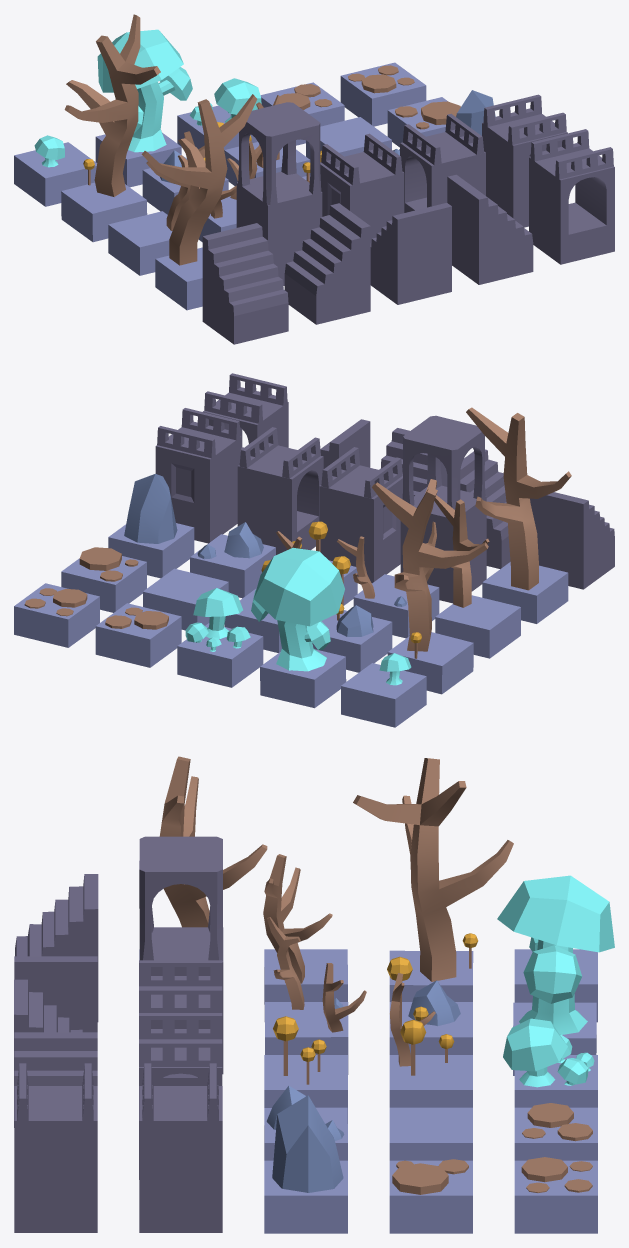
File: tileset.fbx
3 renders of one model, top to bottom at view 1: azimuth 30°, elevation 25°; view 2: azimuth 150°, elevation 25°; view 3: azimuth 270°, elevation 25°, orthographic. The views are drawn at different scales.
Visible parts, largest first — view 1: b_corner, b_arch_x, treeLarge2, b_stairs_ypos, treeLarge, b_stairs_xpos, b_stairs_yneg, b_stairs_xneg, b_path_x, mushroomLarge, b_path_y, b_arch_y (+11 smaller); view 2: mushroomLarge, treeLarge, b_path_x, treeLarge2, b_corner, b_arch_y, b_path_y, b_stairs_ypos, mushrooms, treeMedium, rockLarge, mushroomSingle (+13 smaller); view 3: b_arch_x, b_path_x, treeLarge2, mushroomLarge, rockLarge, b_corner, mushrooms, path2, path1, treeSmallWFlowers, treesSmall, treeMedium (+13 smaller).
Part boxes in pixels (x1,y1,x2,y2): b_corner: [236, 102, 322, 285]; b_arch_x: [529, 129, 614, 264]; treeLarge2: [61, 14, 160, 242]; b_stairs_ypos: [202, 223, 288, 344]; treeLarge: [141, 94, 257, 310]; b_stairs_xpos: [284, 203, 370, 324]; b_stairs_yneg: [370, 203, 451, 304]; b_stairs_xneg: [447, 174, 533, 284]; b_path_x: [482, 94, 567, 227]; mushroomLarge: [95, 29, 192, 187]; b_path_y: [320, 133, 404, 243]; b_arch_y: [400, 113, 485, 212]; mushroomLarge: [251, 547, 346, 708]; treeLarge: [466, 407, 571, 623]; b_path_x: [155, 408, 241, 543]; treeLarge2: [372, 479, 488, 694]; b_corner: [400, 415, 486, 603]; b_arch_y: [237, 427, 323, 554]; b_path_y: [319, 447, 402, 583]; b_stairs_ypos: [530, 492, 614, 589]; mushrooms: [177, 588, 263, 687]; treeMedium: [434, 495, 520, 658]; rockLarge: [108, 474, 194, 578]; mushroomSingle: [341, 653, 426, 727]; b_arch_x: [14, 1063, 97, 1232]; b_path_x: [139, 1063, 222, 1232]; treeLarge2: [353, 758, 513, 1001]; mushroomLarge: [497, 875, 614, 1075]; rockLarge: [264, 1095, 347, 1233]; b_corner: [139, 836, 223, 1074]; mushrooms: [503, 1018, 597, 1107]; path2: [514, 1157, 597, 1233]; path1: [389, 1159, 472, 1233]; treeSmallWFlowers: [389, 973, 472, 1107]; treesSmall: [265, 917, 366, 1074]; treeMedium: [263, 854, 347, 1021].
Size of the model in its own units: 1487 by 671 by 1442.
